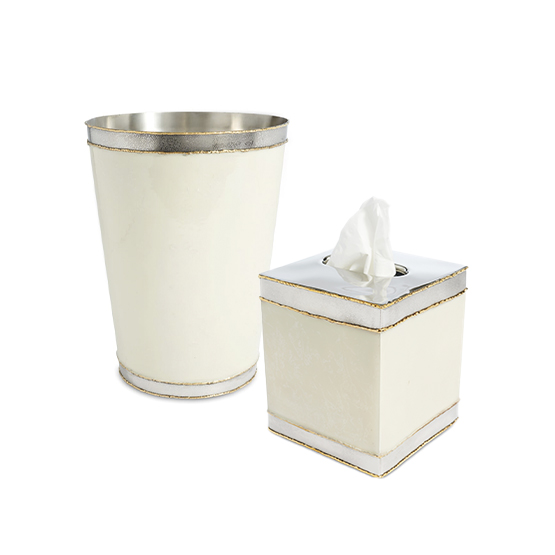Tissue: (323, 195, 404, 280)
